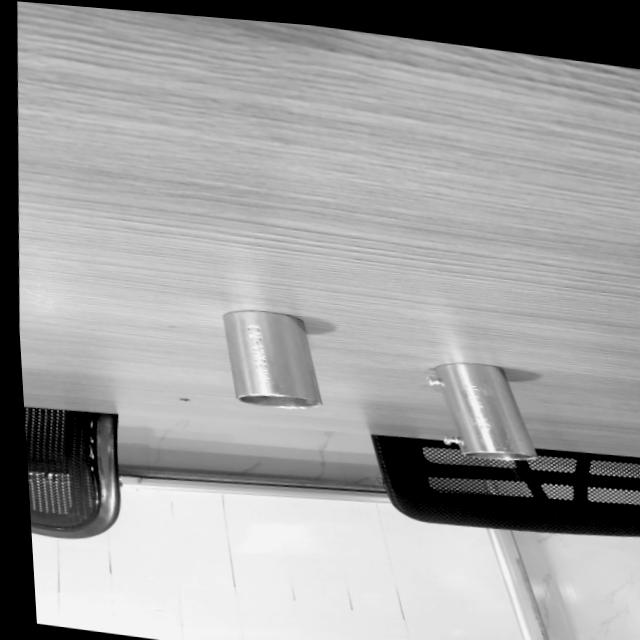Co_Lon: (423, 351, 540, 475)
Co_Nho: (221, 300, 321, 417)
